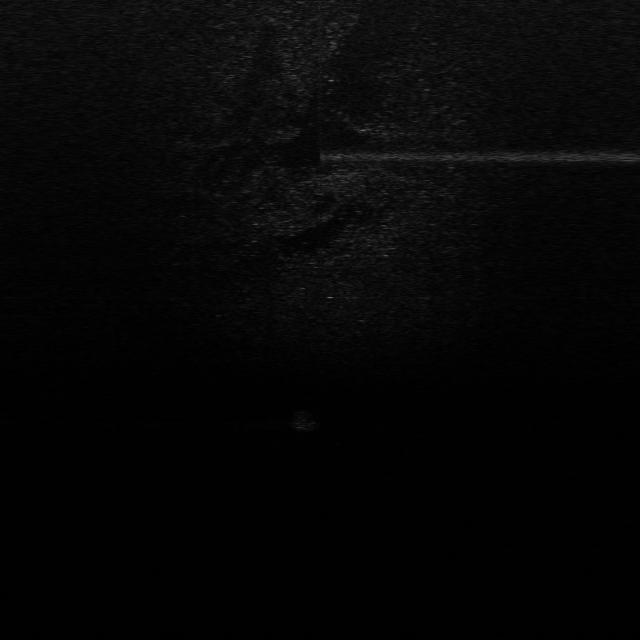circle cage: (284, 408, 322, 435)
